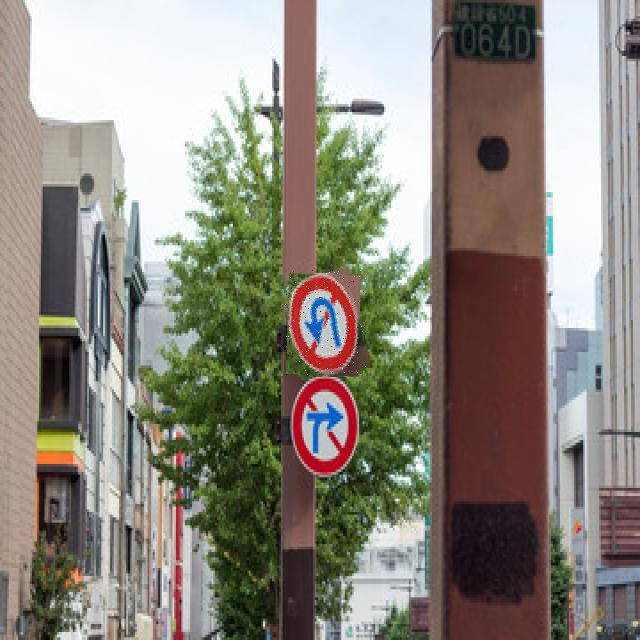no u turn: (284, 270, 366, 377)
